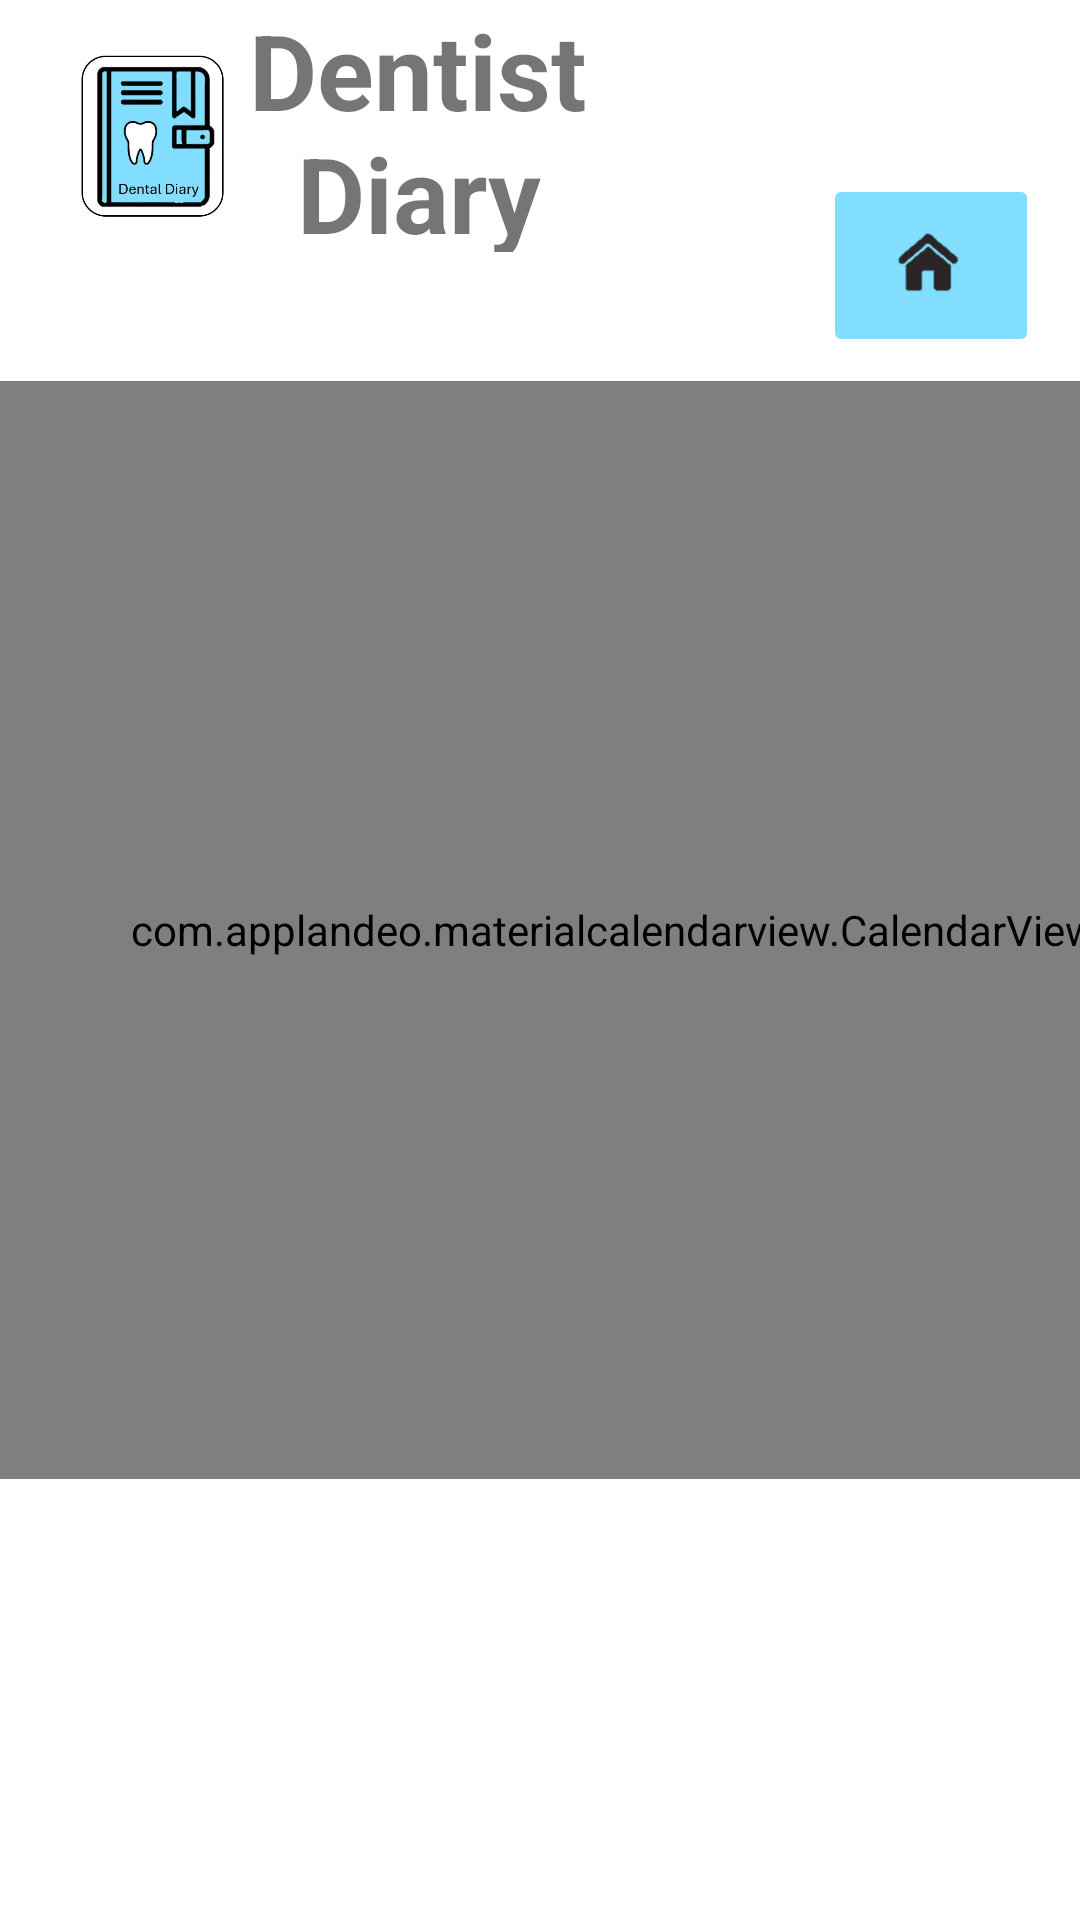

Where to tap for icons on this 1080px x 1920px app screen, as (x,y):
home: (931,265)
